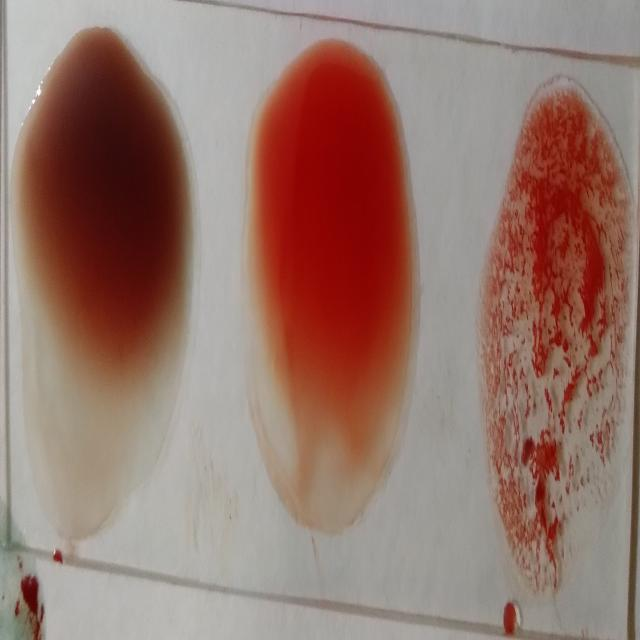D: (483, 86, 631, 576)
